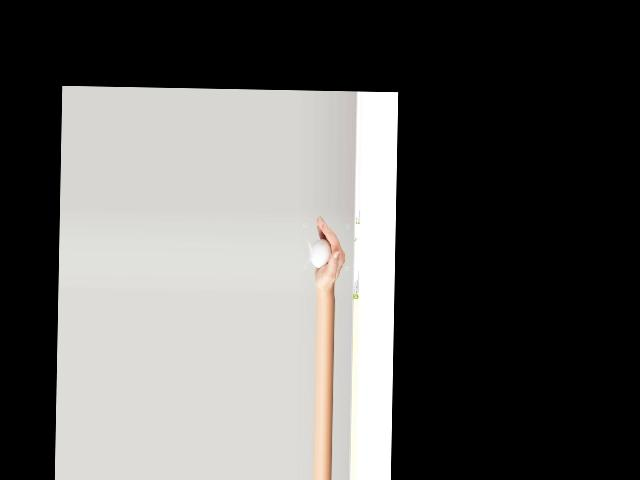egg: (311, 238, 331, 268)
